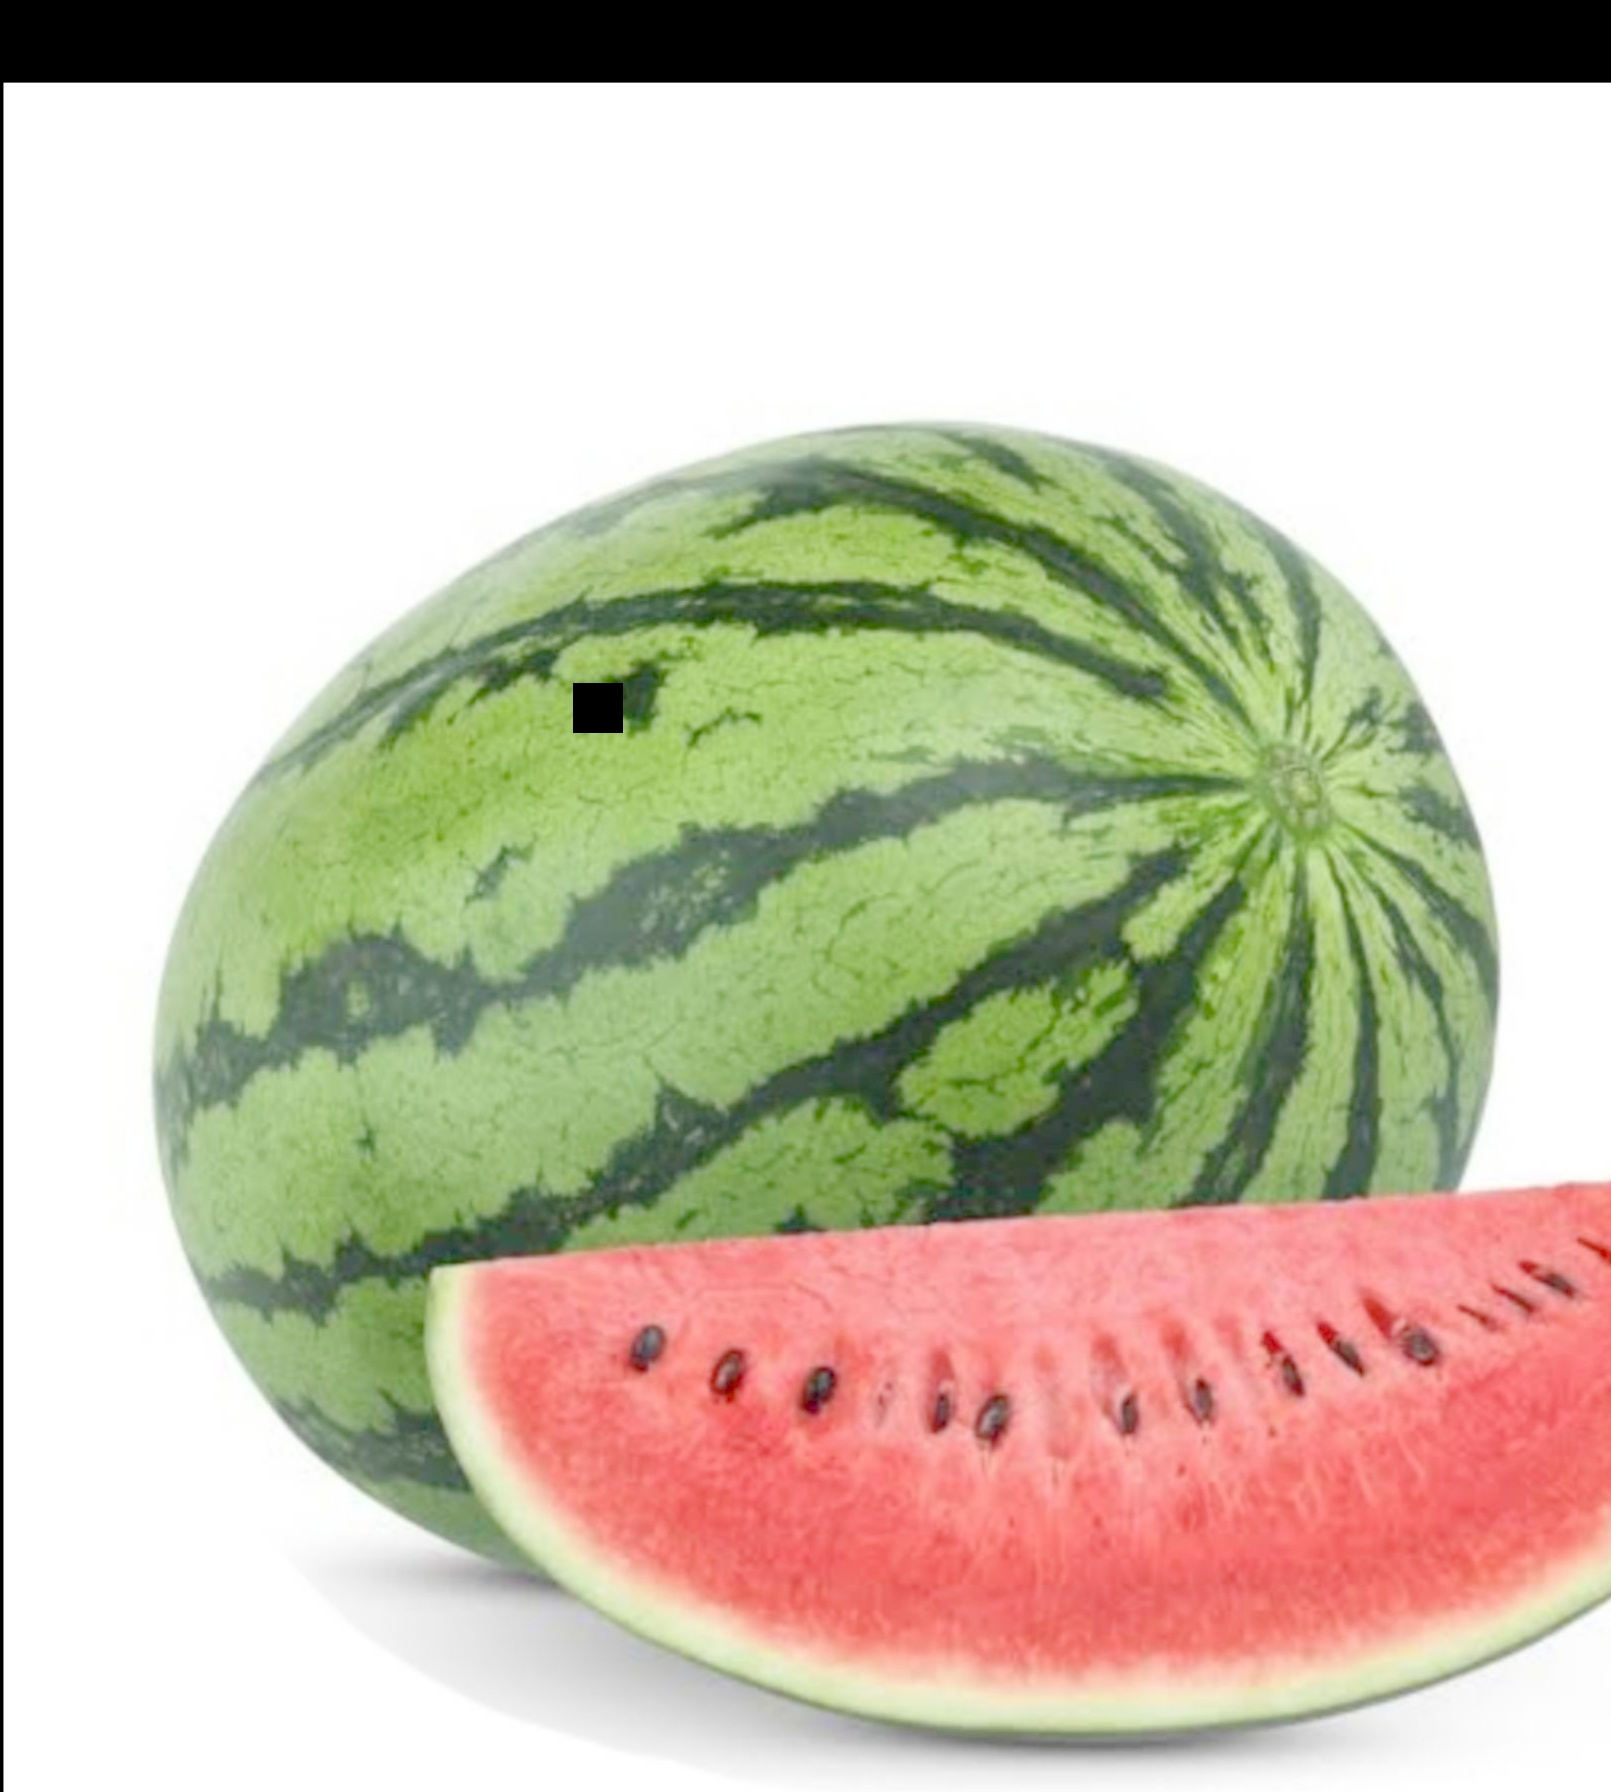watermelon: (103, 422, 1595, 1613)
